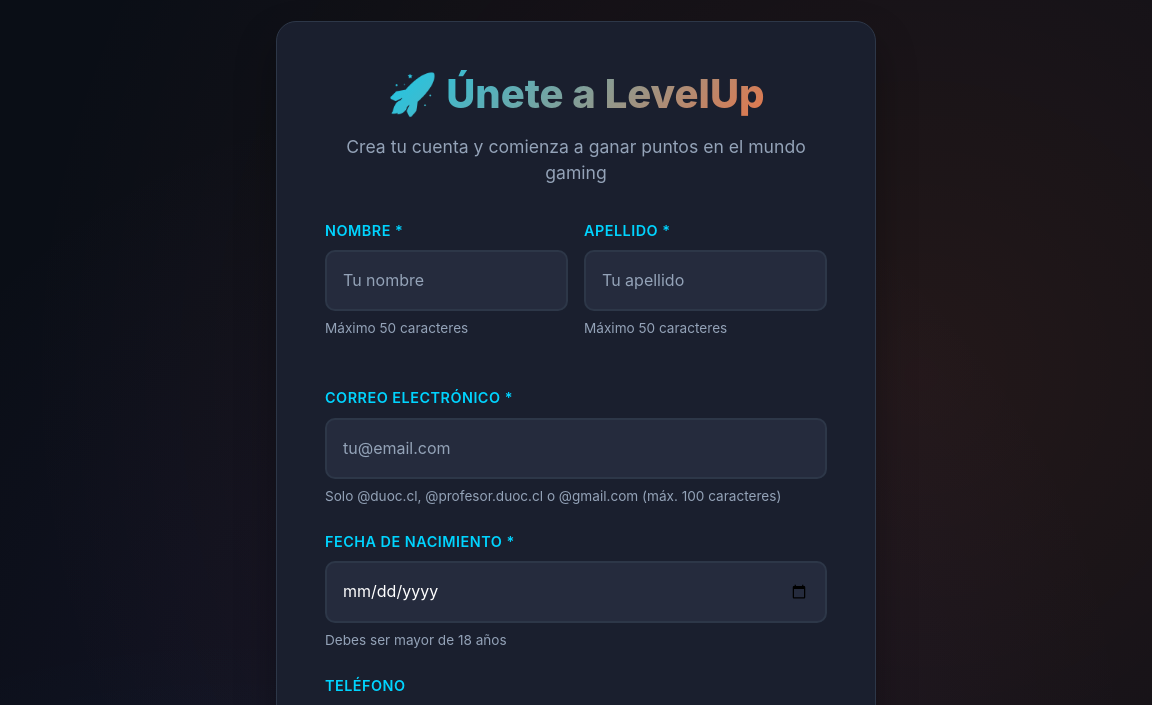
it: Register › proceso de registro › debe mostrar mensaje de éxito y redirigir al login
Type "Test" into the field labelled "Nombre *".
click(446, 281); type("Test")  # box [325, 250, 568, 311]
Type "User" into the field labelled "Apellido *".
click(706, 281); type("User")  # box [584, 250, 827, 311]
Type "test@gmail.com" into the field labelled "Correo electrónico *".
click(576, 448); type("test@gmail.com")  # box [325, 418, 827, 479]
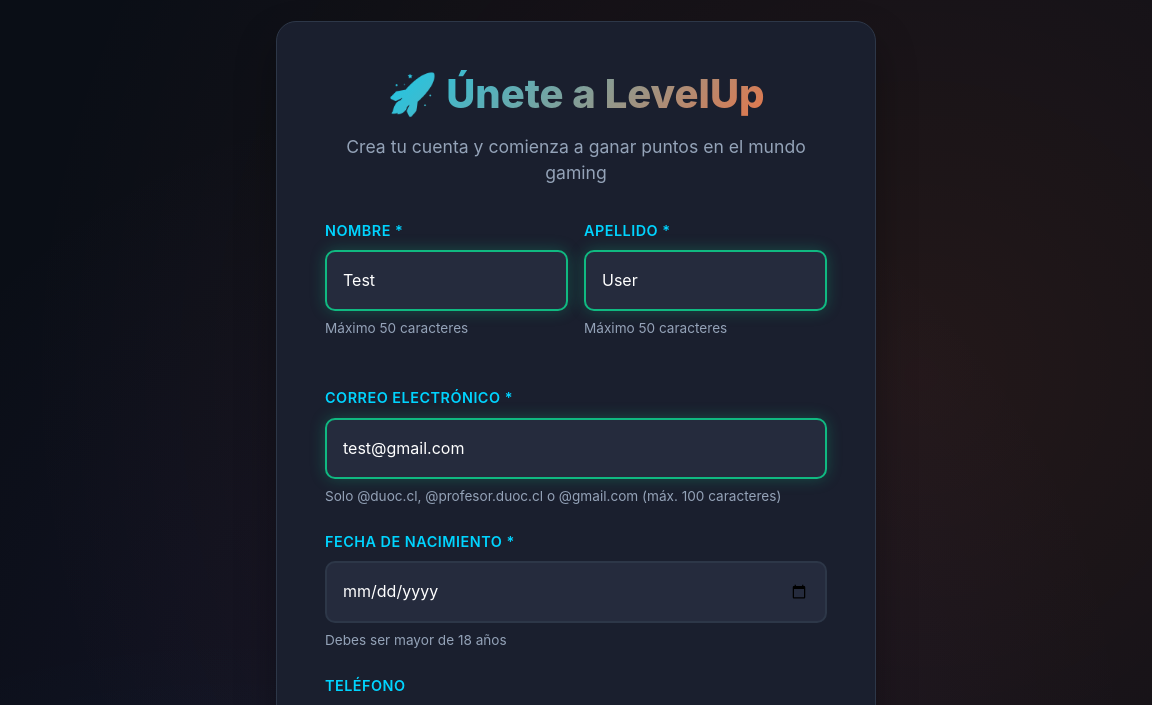
Type "2000-01-01" into the date field labelled "Fecha de nacimiento *".
click(576, 592); type("2000-01-01")  # box [325, 561, 827, 623]
(page scrolled)
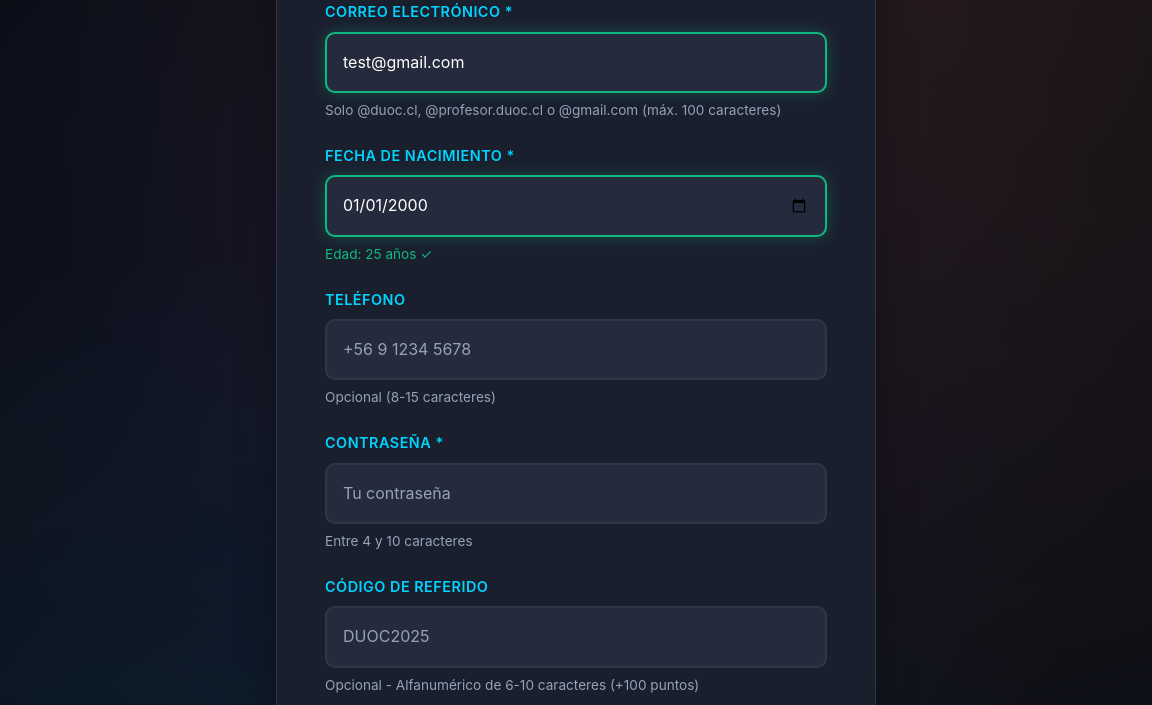
Type "+56912345678" into the field labelled "Teléfono".
click(576, 350); type("+56912345678")  # box [325, 319, 827, 380]
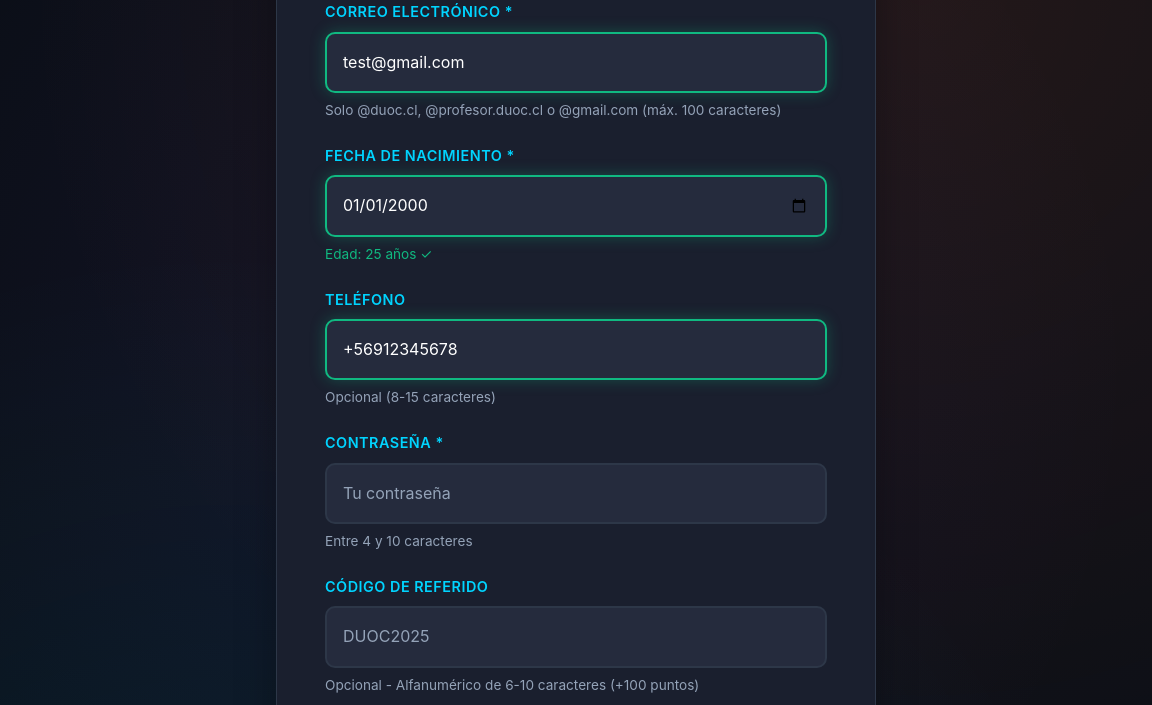
Type "pass123" into the password field with placeholder "Tu contraseña".
click(576, 493); type("pass123")  # box [325, 462, 827, 524]
(page scrolled)
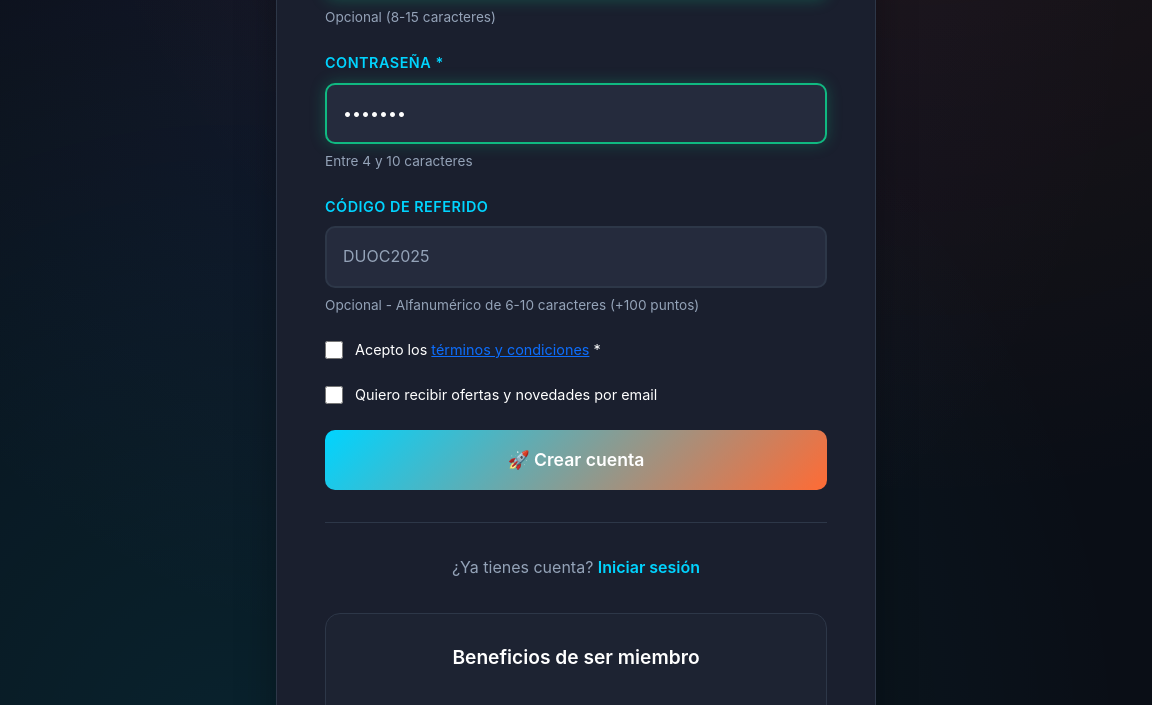
Click the checkbox labelled "Acepto los términos y condiciones *".
click(334, 350)  # box [325, 341, 343, 359]
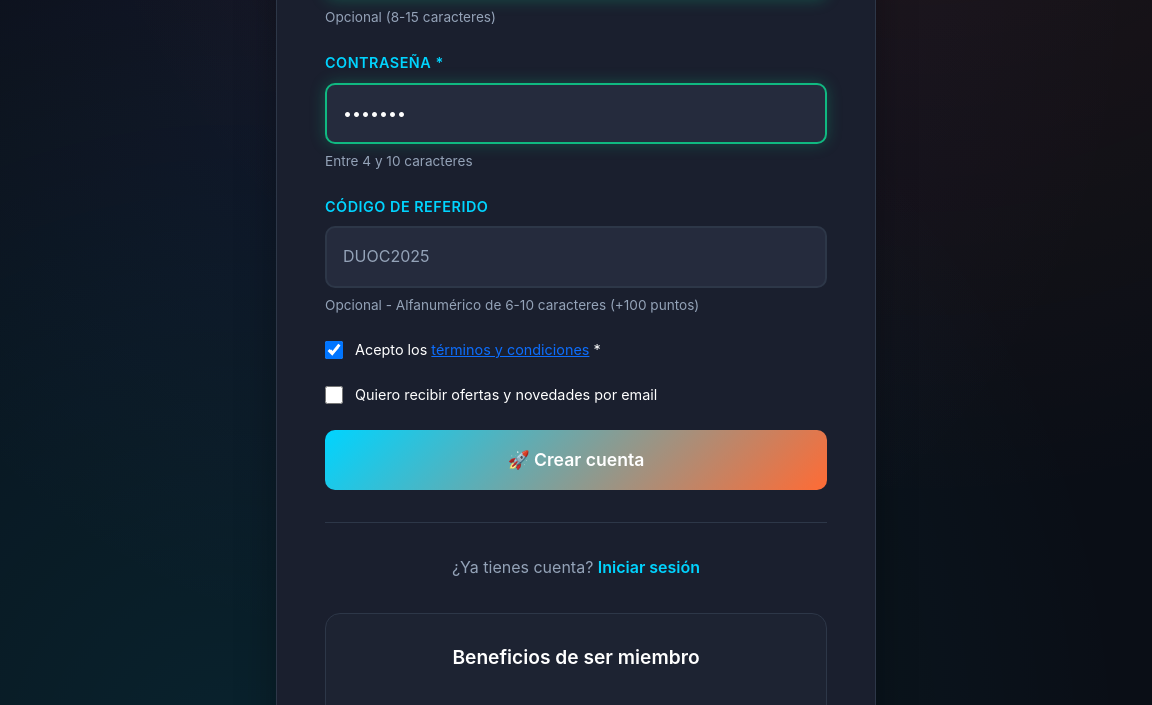
Click the button "🚀 Crear cuenta".
click(576, 460)  # box [325, 430, 827, 490]
Wait 4000 ms
(page scrolled)
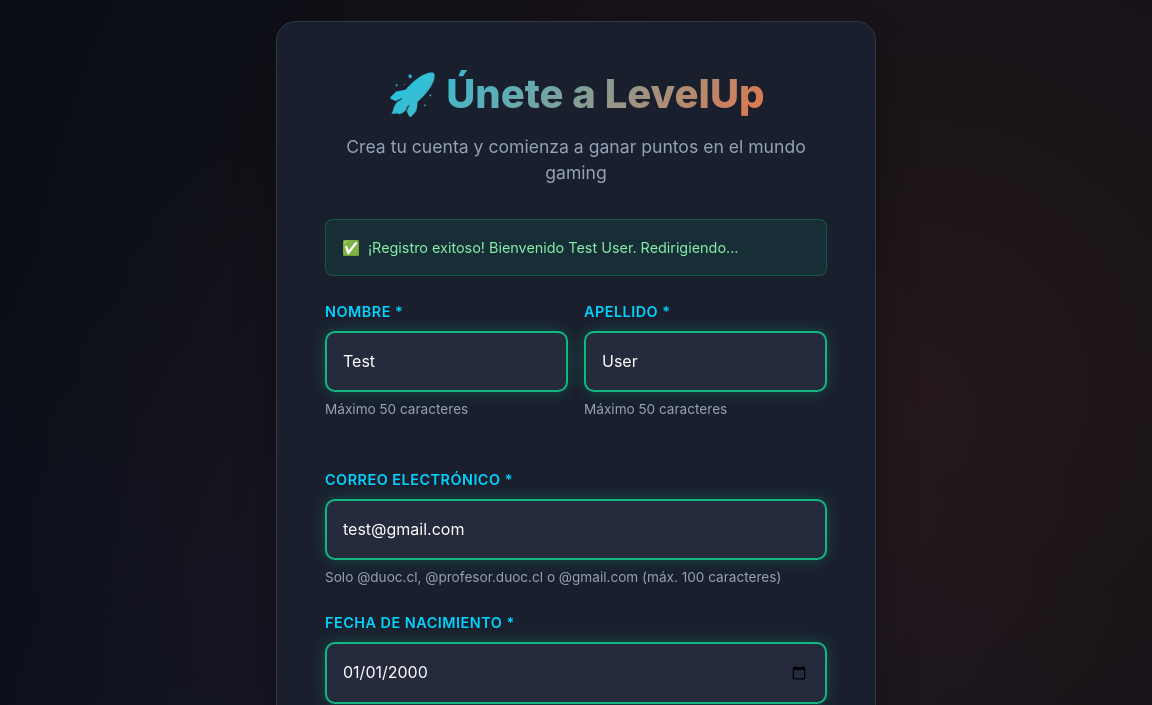
Expected: the text "✅ ¡Registro exitoso! Bienvenido Test User. Redirigiendo..." is shown, [325, 219, 827, 276]
